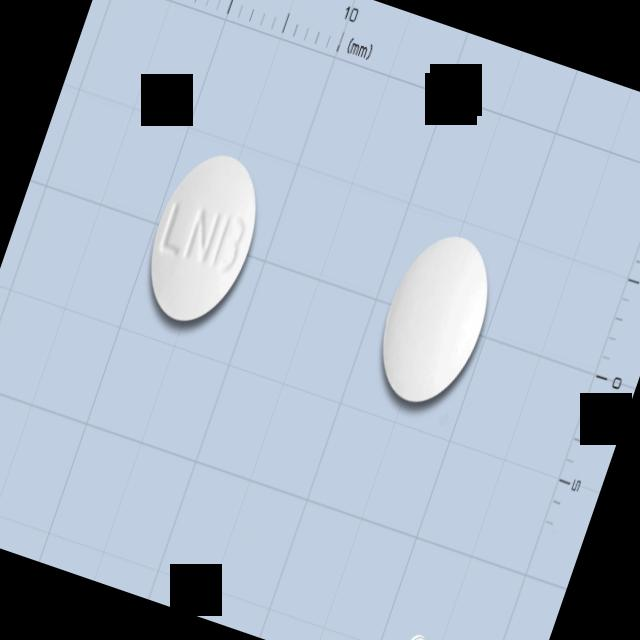Lenovo: (131, 140, 277, 336)
